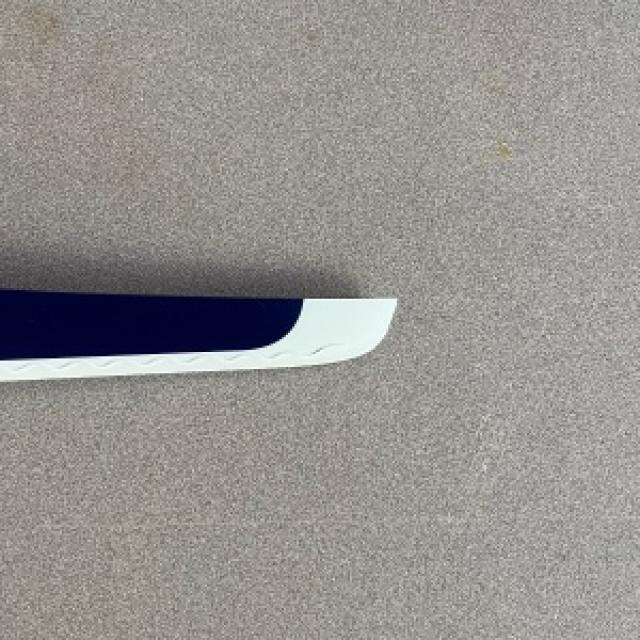healthy: (0, 288, 395, 378)
